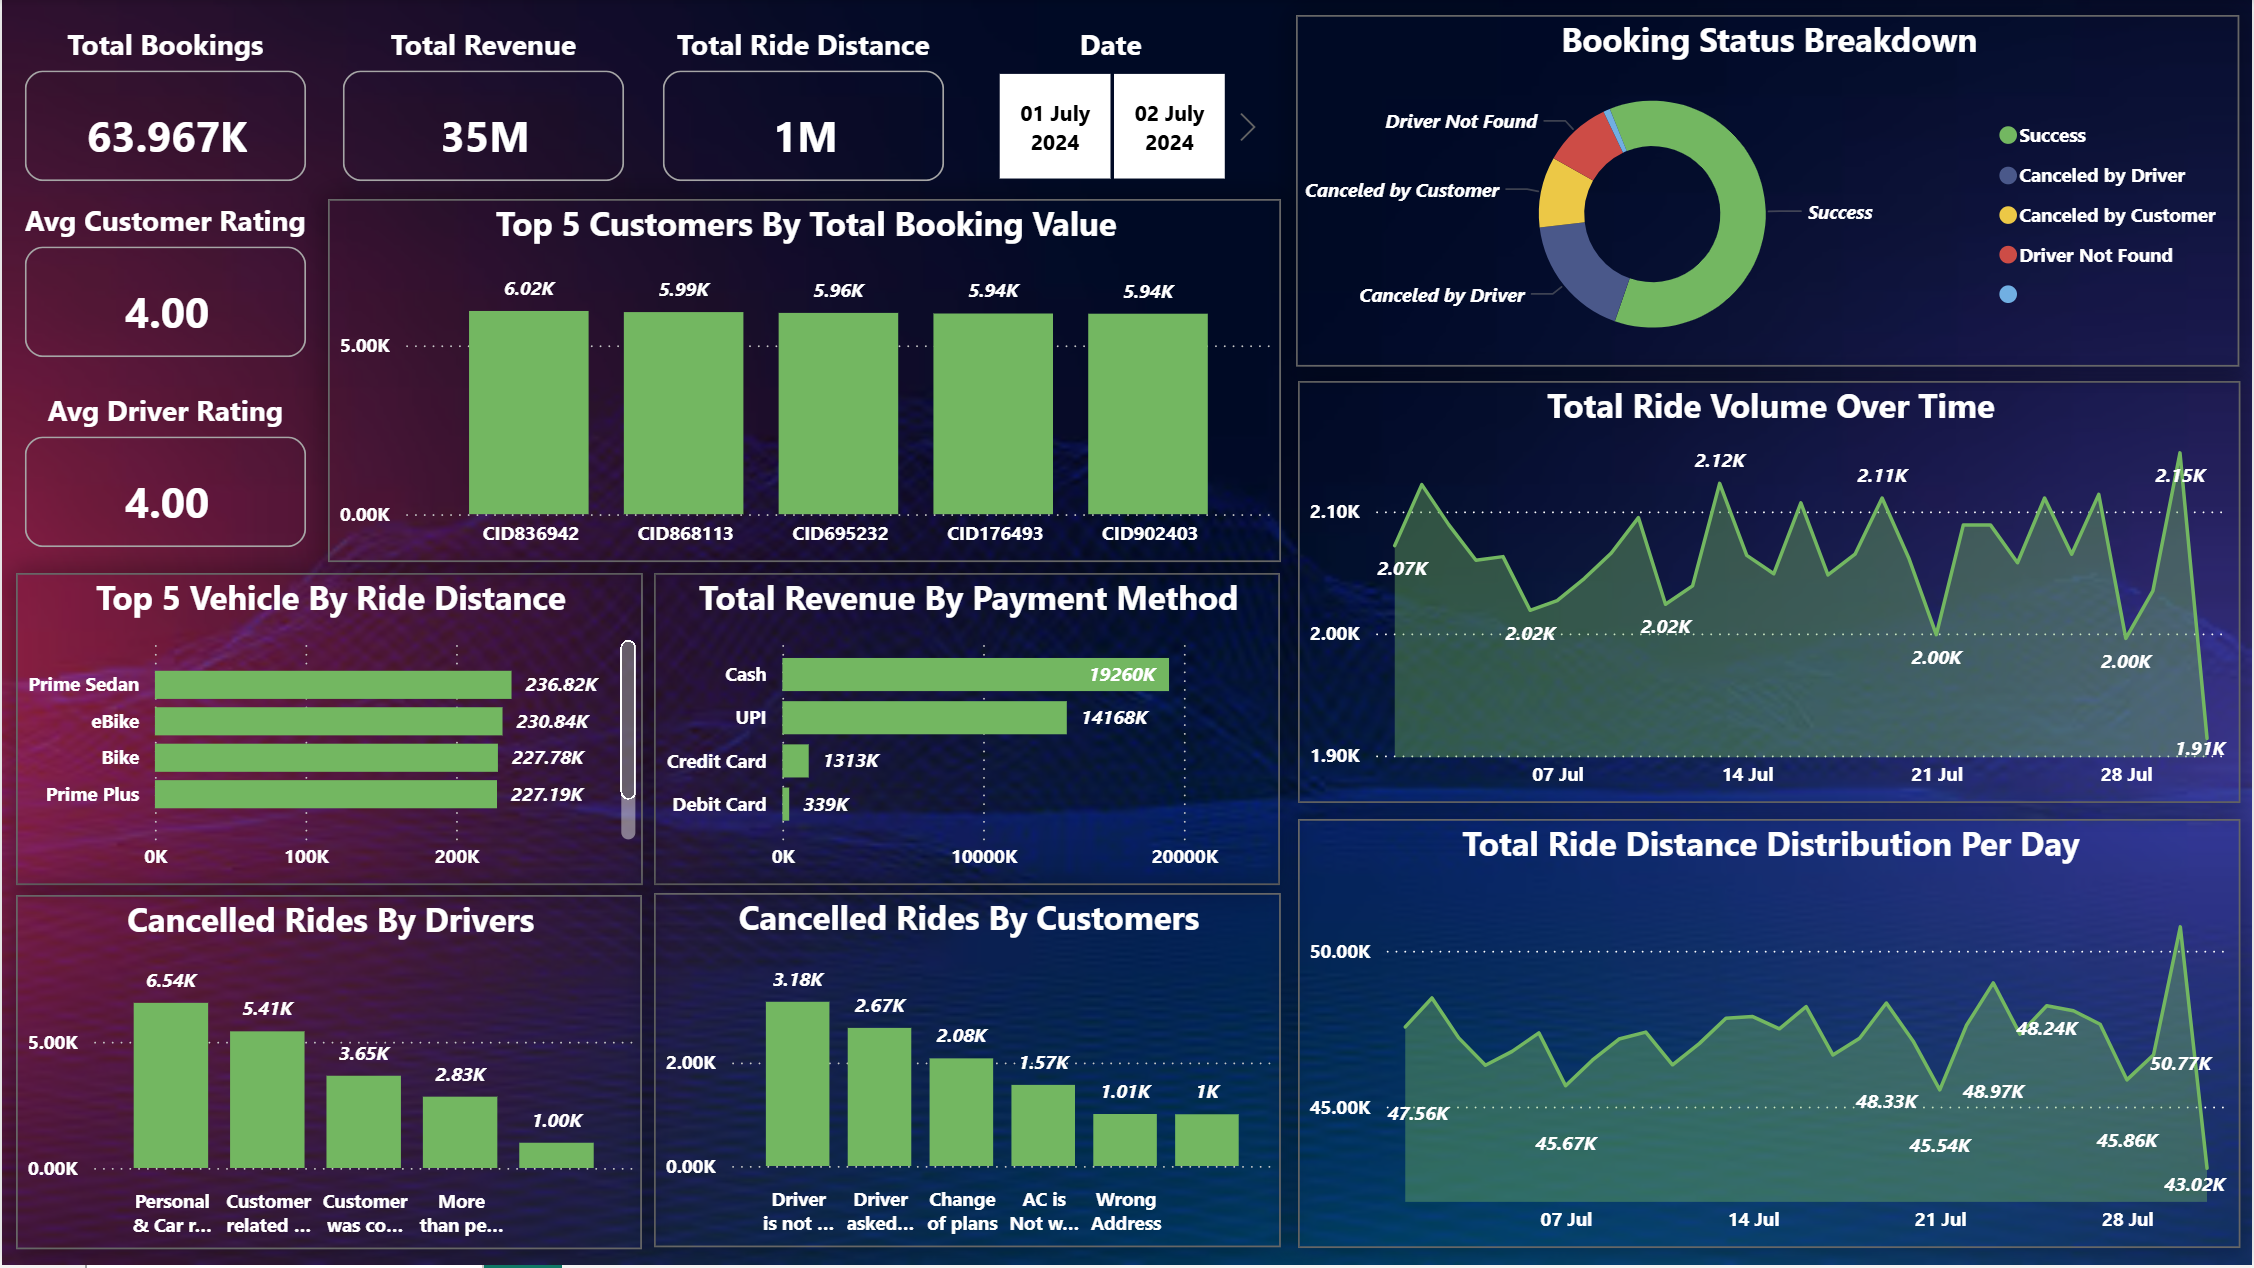

Layout of this report page (visuals, bound fields, positions):
{"tool":"powerbi","page":{"name":"OLA_RIDES_JULY_ANALYTICS","canvas":[1280,720],"ordinal":0},"visuals":[{"type":"lineChart","title":"Total Ride Volume Over Time","fields":{"Y":["CountNonNull(July.Booking_ID)"],"Category":["July.Date"]},"box":[737.5,217.5,536,240],"z":0},{"type":"donutChart","title":"Booking Status Breakdown","fields":{"Category":["July.Booking_Status"],"Y":["CountNonNull(July.Booking_ID)"]},"box":[736.2,8.8,536.2,200],"z":1000},{"type":"clusteredBarChart","title":"Total Revenue By Payment Method","fields":{"Category":["July.Payment_Method"],"Y":["Sum(July.Booking_Value)"]},"box":[371.2,326.2,356,177.5],"z":2000},{"type":"clusteredBarChart","title":"Top 5 Vehicle By Ride Distance","fields":{"Category":["July.Vehicle_Type"],"Y":["Sum(July.Ride_Distance)"]},"box":[7.5,326.2,356.2,177.5],"z":3000},{"type":"clusteredColumnChart","title":"Top 5 Customers By Total Booking Value","fields":{"Category":["July.Customer_ID"],"Y":["Sum(July.Booking_Value)"]},"box":[185,113.8,542,206.2],"z":4000},{"type":"stackedAreaChart","title":"Total Ride Distance Distribution Per Day","fields":{"Category":["July.Date"],"Y":["Sum(July.Ride_Distance)"]},"box":[737.5,466.2,536,243.8],"z":5000},{"type":"clusteredColumnChart","title":"Cancelled Rides By Customers","fields":{"Category":["July.Canceled_Rides_by_Customer"],"Y":["CountNonNull(July.Canceled_Rides_by_Customer)"]},"box":[371.2,508.8,356.2,201.2],"z":6000},{"type":"clusteredColumnChart","title":"Cancelled Rides By Drivers","fields":{"Category":["July.Canceled_Rides_by_Driver"],"Y":["CountNonNull(July.Canceled_Rides_by_Driver)"]},"box":[7.5,510,356,201.2],"z":7000},{"type":"cardVisual","title":"Total Bookings","fields":{"Data":["Count(July.Booking_ID)"]},"box":[7.5,8.8,170,100],"z":8000},{"type":"cardVisual","title":"Total Revenue","fields":{"Data":["Sum(July.Booking_Value)"]},"box":[188.8,8.8,170,100],"z":9000},{"type":"cardVisual","title":"Avg Driver Rating","fields":{"Data":["Avg(July.Driver_Ratings)"]},"box":[7.5,217.5,170,100],"z":10000},{"type":"cardVisual","title":"Avg Customer Rating","fields":{"Data":["Avg(July.Customer_Rating)"]},"box":[7.5,108.8,170,100],"z":11000},{"type":"cardVisual","title":"Total Ride Distance","fields":{"Data":["Sum(July.Ride_Distance)"]},"box":[371.2,8.8,170,100],"z":12000},{"type":"slicer","title":"Date","fields":{"Values":["July.Date"]},"box":[555,8.8,170,100],"z":13000}]}

Visuals, with their boxes in screenshot pixels (x1, y1, x2, y2), scaled from the page's 1280x720 canvas onto the 2254x1268 screenshot:
"Total Ride Volume Over Time" lineChart: (x1=1299, y1=383, x2=2243, y2=806)
"Booking Status Breakdown" donutChart: (x1=1296, y1=15, x2=2241, y2=368)
"Total Revenue By Payment Method" clusteredBarChart: (x1=654, y1=574, x2=1281, y2=887)
"Top 5 Vehicle By Ride Distance" clusteredBarChart: (x1=13, y1=574, x2=640, y2=887)
"Top 5 Customers By Total Booking Value" clusteredColumnChart: (x1=326, y1=200, x2=1280, y2=564)
"Total Ride Distance Distribution Per Day" stackedAreaChart: (x1=1299, y1=821, x2=2243, y2=1250)
"Cancelled Rides By Customers" clusteredColumnChart: (x1=654, y1=896, x2=1281, y2=1250)
"Cancelled Rides By Drivers" clusteredColumnChart: (x1=13, y1=898, x2=640, y2=1253)
"Total Bookings" cardVisual: (x1=13, y1=15, x2=313, y2=192)
"Total Revenue" cardVisual: (x1=332, y1=15, x2=632, y2=192)
"Avg Driver Rating" cardVisual: (x1=13, y1=383, x2=313, y2=559)
"Avg Customer Rating" cardVisual: (x1=13, y1=192, x2=313, y2=368)
"Total Ride Distance" cardVisual: (x1=654, y1=15, x2=953, y2=192)
"Date" slicer: (x1=977, y1=15, x2=1277, y2=192)
